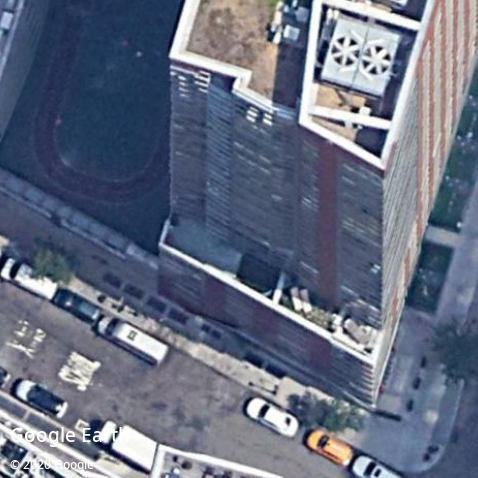Vent: (331, 36, 361, 66), (362, 45, 391, 75)
